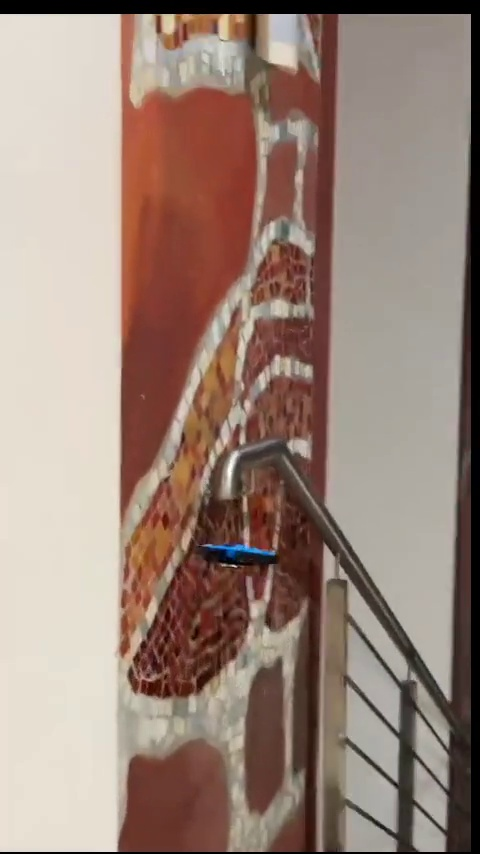drone: (200, 542, 277, 569)
